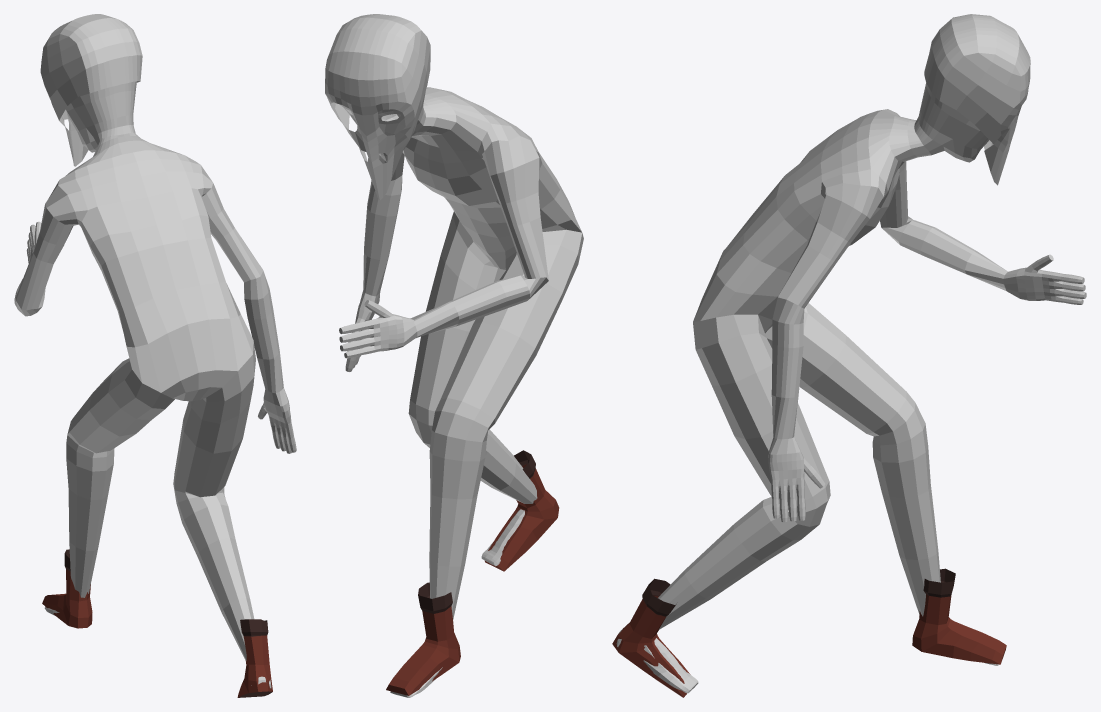
File: saltoadelante_000148.obj
3 renders of one model, left to right at view 1: azimuth 30°, elevation 25°; view 2: azimuth 150°, elevation 25°; view 3: azimuth 270°, elevation 25°, orthographic. The views are drawn at different scales.
Parts seen in each view (by area): view 1: Plane.002_Plane.001, Plane.003, Plane.004; view 2: Plane.002_Plane.001, Plane.004, Plane.003; view 3: Plane.002_Plane.001, Plane.004, Plane.003.
Boxes of the visible parts, left/top/right/bottom form: Plane.002_Plane.001: left=14, top=14, right=296, bottom=688; Plane.003: left=237, top=619, right=272, bottom=697; Plane.004: left=42, top=549, right=92, bottom=628; Plane.002_Plane.001: left=325, top=14, right=583, bottom=697; Plane.004: left=386, top=582, right=460, bottom=695; Plane.003: left=485, top=450, right=559, bottom=571; Plane.002_Plane.001: left=616, top=14, right=1086, bottom=693; Plane.004: left=912, top=568, right=1006, bottom=664; Plane.003: left=612, top=578, right=690, bottom=697.
Bounding box in the file's own units: 2.32 × 5.81 × 3.81.
